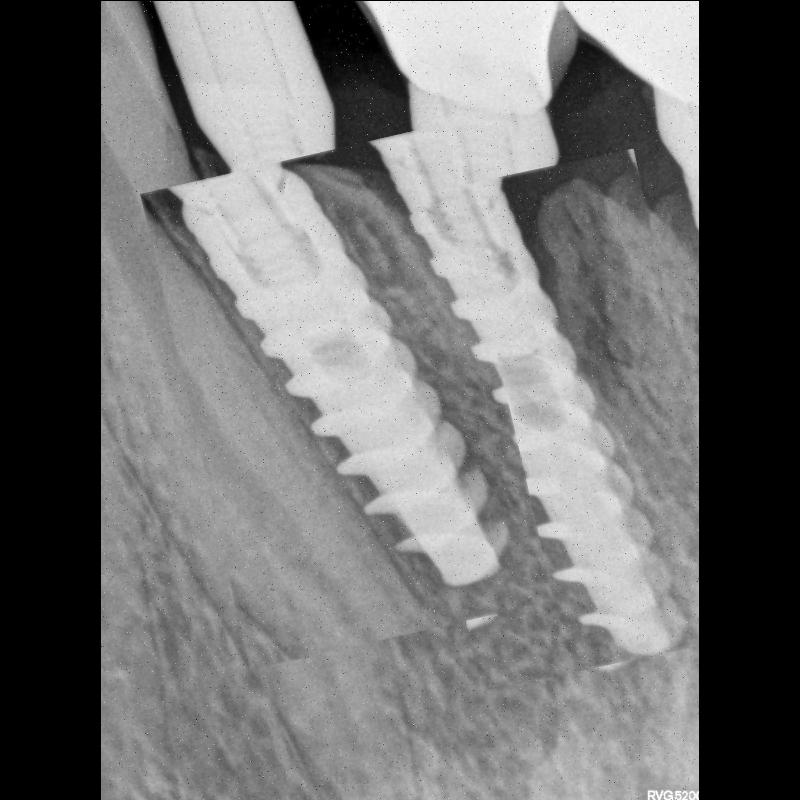ADIN: (166, 139, 528, 656), (401, 159, 699, 681)
